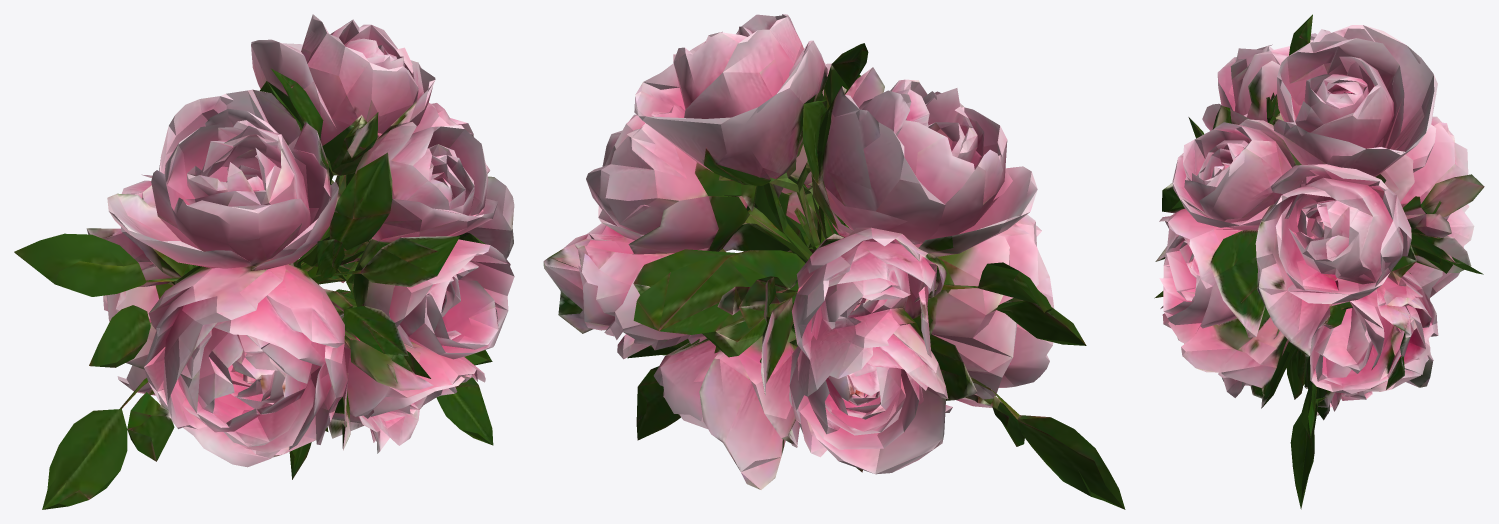
Rendered from peony-blush.glb.
3 renders of one model, left to right at view 1: azimuth 30°, elevation 25°; view 2: azimuth 150°, elevation 25°; view 3: azimuth 270°, elevation 25°, orthographic. The views are drawn at different scales.
Bounding box in the file's own units: 1 × 0.8643 × 0.6353.
1 material, 1 textured.
